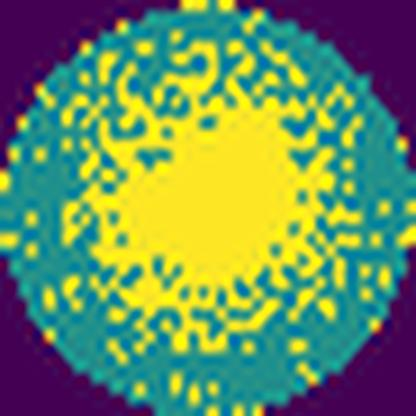Center: (62, 44, 333, 356)
